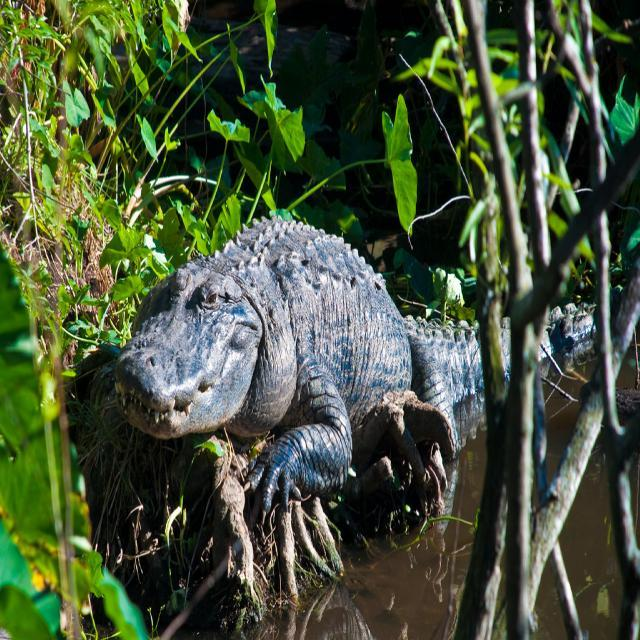crocodile: (104, 213, 599, 524)
